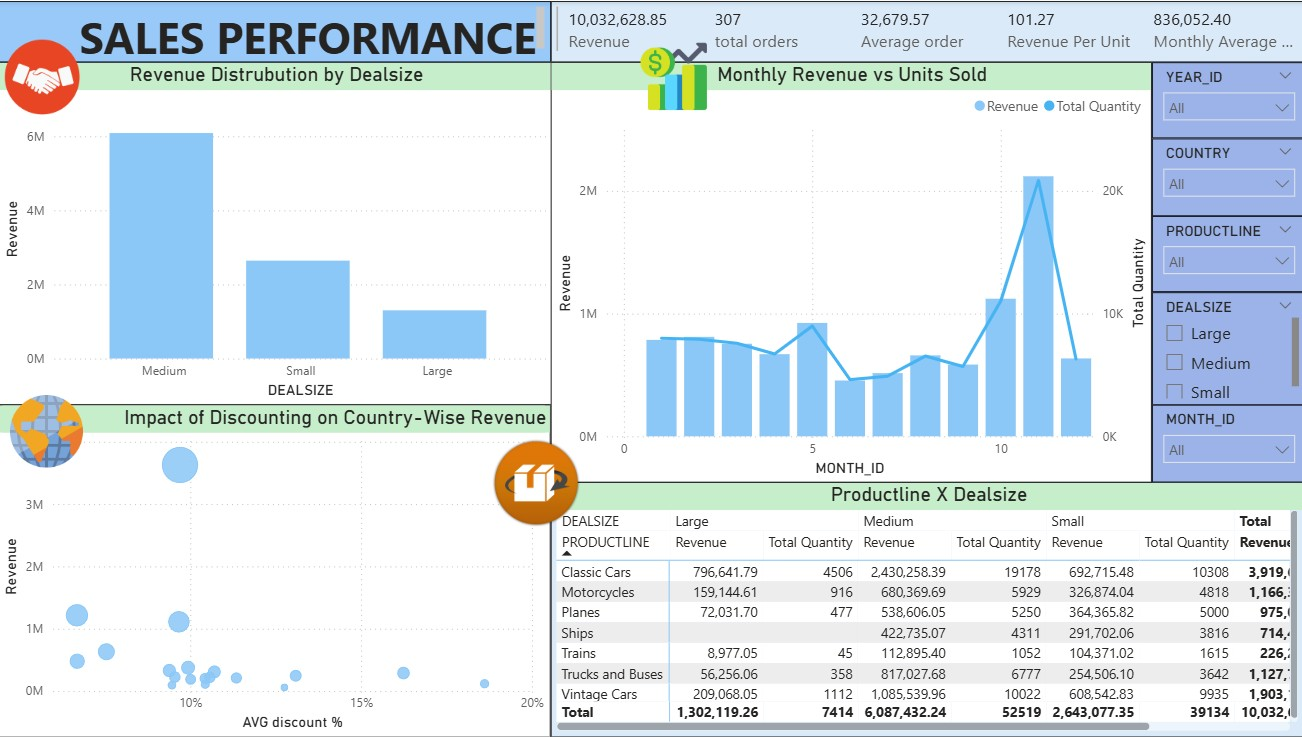

The page's visual inventory and layout, read from the dashboard file:
{"tool":"powerbi","page":{"name":"Sales Performance","canvas":[1280,720],"ordinal":1},"visuals":[{"type":"multiRowCard","fields":{"Values":["Automobile_sales.Revenue","Automobile_sales.total orders","Automobile_sales.Average order","Automobile_sales.Revenue Per Unit","Automobile_sales.Monthly Average Revenue"]},"box":[541.7,0,738.6,59.9],"z":0},{"type":"clusteredColumnChart","title":"Revenue Distrubution by Dealsize","fields":{"Category":["Automobile_sales.DEALSIZE"],"Y":["Automobile_sales.Revenue"]},"box":[1.2,59.9,542.9,335.1],"z":1000},{"type":"lineClusteredColumnComboChart","title":"Monthly Revenue vs Units Sold","fields":{"Y":["Automobile_sales.Revenue"],"Y2":["Automobile_sales.Total Quantity"],"Category":["Automobile_sales.MONTH_ID"]},"box":[541.7,59.9,588.2,410.9],"z":2000},{"type":"pivotTable","title":"Productline X Dealsize","fields":{"Rows":["Automobile_sales.PRODUCTLINE"],"Columns":["Automobile_sales.DEALSIZE"],"Values":["Automobile_sales.Revenue","Automobile_sales.Total Quantity"]},"box":[541.7,470.8,738.6,249.5],"z":3000},{"type":"scatterChart","title":"Impact of Discounting on Country-Wise Revenue","fields":{"X":["Automobile_sales.AVG discount %"],"Y":["Automobile_sales.Revenue"],"Category":["Automobile_sales.COUNTRY"],"Size":["Automobile_sales.Revenue"]},"box":[0,395,541.7,325.3],"z":4000},{"type":"slicer","fields":{"Values":["Automobile_sales.YEAR_ID"]},"box":[1129.9,59.9,150.4,74.6],"z":5000},{"type":"slicer","fields":{"Values":["Automobile_sales.COUNTRY"]},"box":[1129.9,134.5,150.4,75.8],"z":6000},{"type":"slicer","fields":{"Values":["Automobile_sales.PRODUCTLINE"]},"box":[1129.9,210.3,150.4,74.6],"z":7000},{"type":"slicer","fields":{"Values":["Automobile_sales.DEALSIZE"]},"box":[1129.9,284.9,150.4,110.1],"z":8000},{"type":"textbox","box":[1.2,0,540.5,59.9],"z":9000},{"type":"slicer","fields":{"Values":["Automobile_sales.MONTH_ID"]},"box":[1129.9,395,150.4,75.8],"z":10000},{"type":"image","box":[1.2,33,85.6,84.4],"z":11000},{"type":"image","box":[618.8,30.6,86.8,86.8],"z":12000},{"type":"image","box":[0,371.7,96.6,99],"z":13000},{"type":"image","box":[478.1,421.9,99,99],"z":14000}]}

Visuals, with their boxes in screenshot pixels (x1, y1, x2, y2), scaled from the page's 1280x720 canvas onto the 1302x737 screenshot:
multiRowCard - Automobile_sales.Revenue x Automobile_sales.total orders: <region>551, 0, 1301, 61</region>
"Revenue Distrubution by Dealsize" clusteredColumnChart: <region>1, 61, 553, 404</region>
"Monthly Revenue vs Units Sold" lineClusteredColumnComboChart: <region>551, 61, 1149, 482</region>
"Productline X Dealsize" pivotTable: <region>551, 482, 1301, 736</region>
"Impact of Discounting on Country-Wise Revenue" scatterChart: <region>0, 404, 551, 736</region>
slicer - Automobile_sales.YEAR_ID: <region>1149, 61, 1301, 138</region>
slicer - Automobile_sales.COUNTRY: <region>1149, 138, 1301, 215</region>
slicer - Automobile_sales.PRODUCTLINE: <region>1149, 215, 1301, 292</region>
slicer - Automobile_sales.DEALSIZE: <region>1149, 292, 1301, 404</region>
textbox: <region>1, 0, 551, 61</region>
slicer - Automobile_sales.MONTH_ID: <region>1149, 404, 1301, 482</region>
image: <region>1, 34, 88, 120</region>
image: <region>629, 31, 718, 120</region>
image: <region>0, 380, 98, 482</region>
image: <region>486, 432, 587, 533</region>
